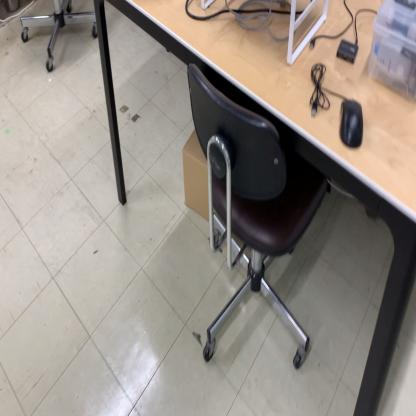chair: (186, 62, 330, 370)
